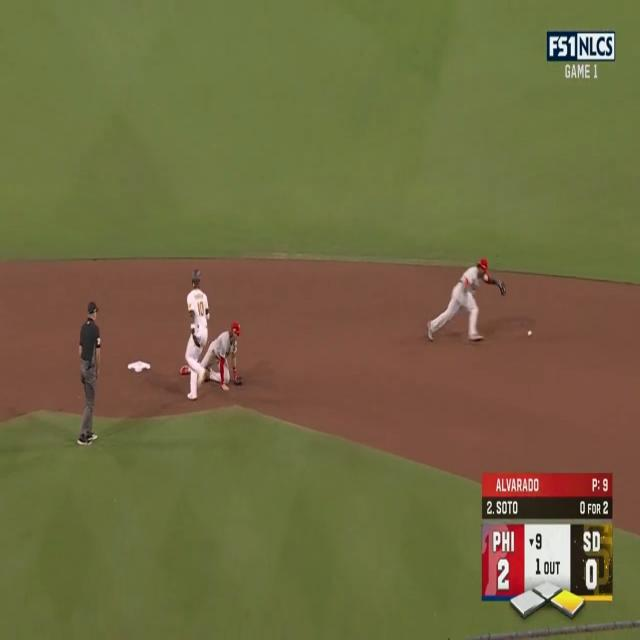baseball: (527, 330, 532, 336)
